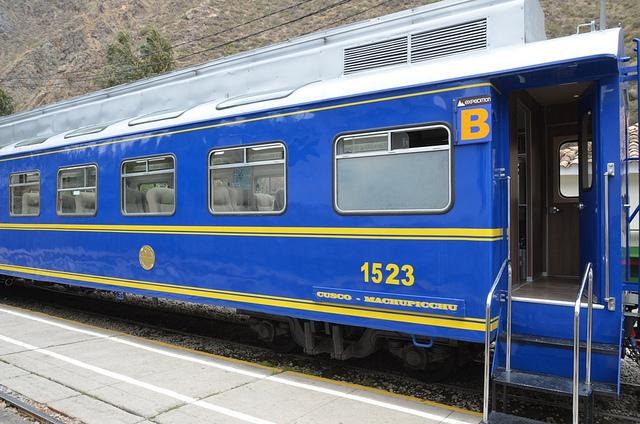Train: (0, 1, 640, 423)
